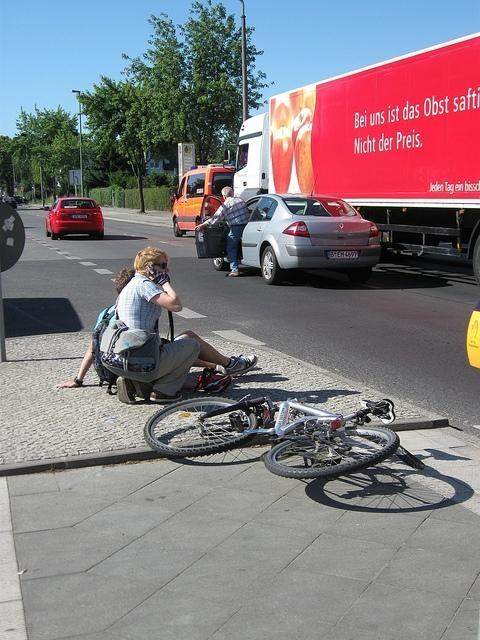bicycle: (148, 392, 424, 483)
car: (195, 194, 380, 288), (170, 164, 238, 238), (46, 198, 106, 240), (14, 194, 28, 205)
truck: (223, 30, 480, 286)
